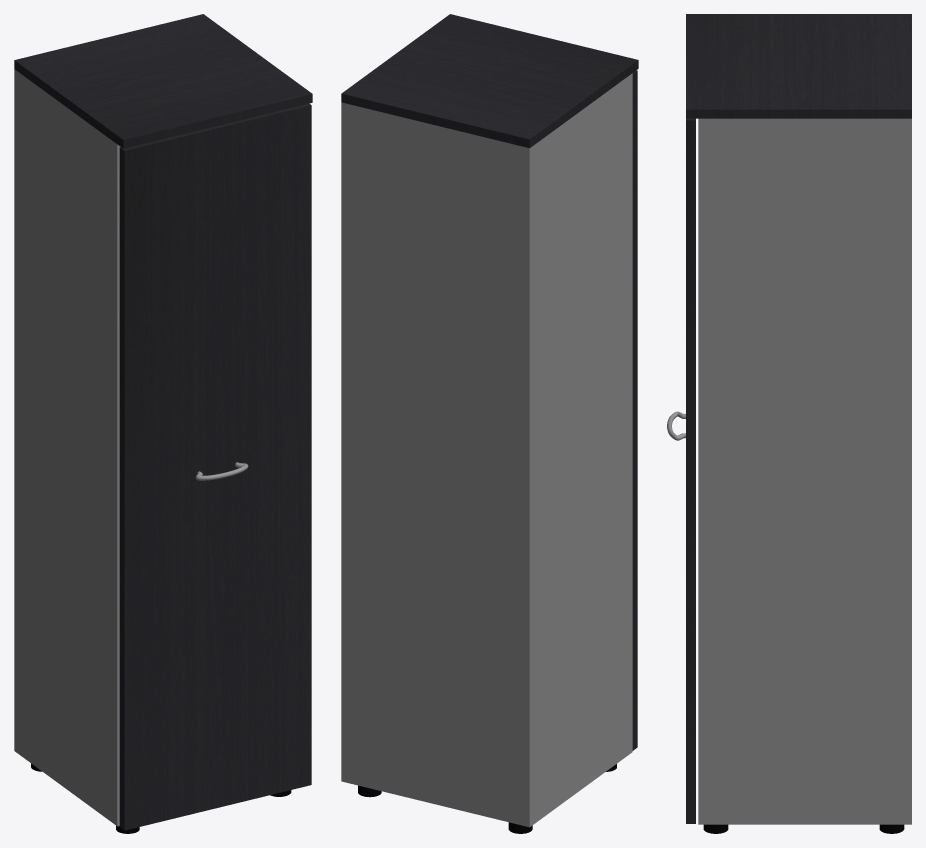
File: mobile45160W.obj
3 views of the same model, side by side, from view 1: azimuth 30°, elevation 25°; view 2: azimuth 150°, elevation 25°; view 3: azimuth 270°, elevation 25° (orthographic). The views are drawn at different scales.
Visible parts, largest first — view 1: Box56_2, Box58_8, Box57_3; view 2: Box58_8, Box57_3, Box56_2; view 3: Box58_8, Box57_3, Box56_2.
Boxes of the visible parts, x1,y1,x2,y2 form: Box56_2: [119, 103, 311, 830]; Box58_8: [14, 69, 120, 826]; Box57_3: [14, 14, 312, 148]; Box58_8: [341, 73, 632, 827]; Box57_3: [341, 14, 638, 148]; Box56_2: [632, 70, 637, 750]; Box58_8: [698, 118, 911, 824]; Box57_3: [686, 14, 911, 118]; Box56_2: [686, 118, 695, 823].
Bounding box in the file's own units: 45 × 160 × 48.75.
